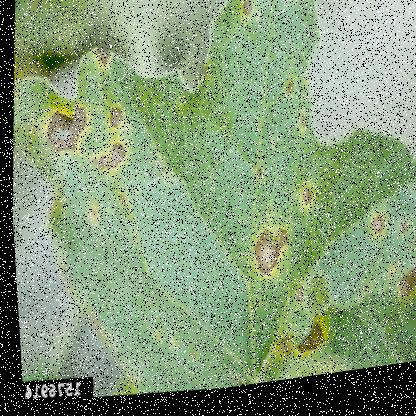AlternariaBrassicicola: (36, 99, 89, 162), (242, 224, 289, 289), (85, 136, 127, 181), (90, 43, 113, 73), (362, 220, 384, 249), (103, 103, 122, 134), (293, 188, 313, 217), (236, 0, 255, 28), (288, 288, 303, 315), (280, 81, 296, 106), (250, 170, 262, 189)
